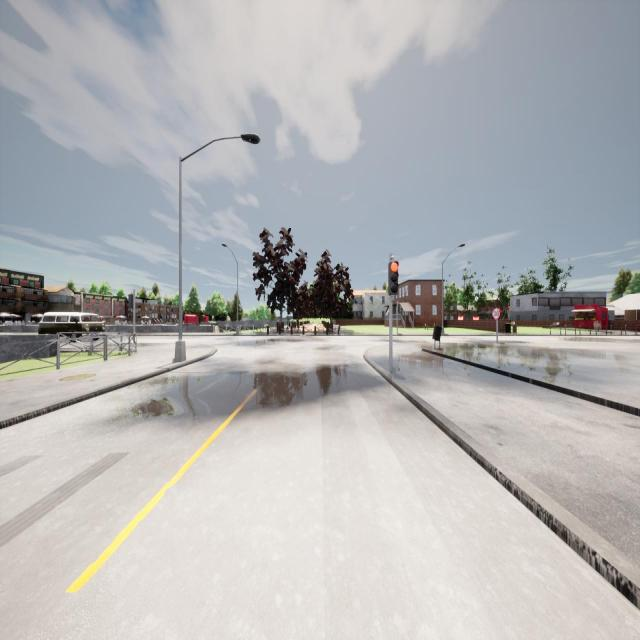Traffic_Signs: (492, 308, 502, 320)
Vehicle: (38, 312, 106, 342)
traffic_light: (389, 261, 399, 295), (129, 294, 133, 308)
